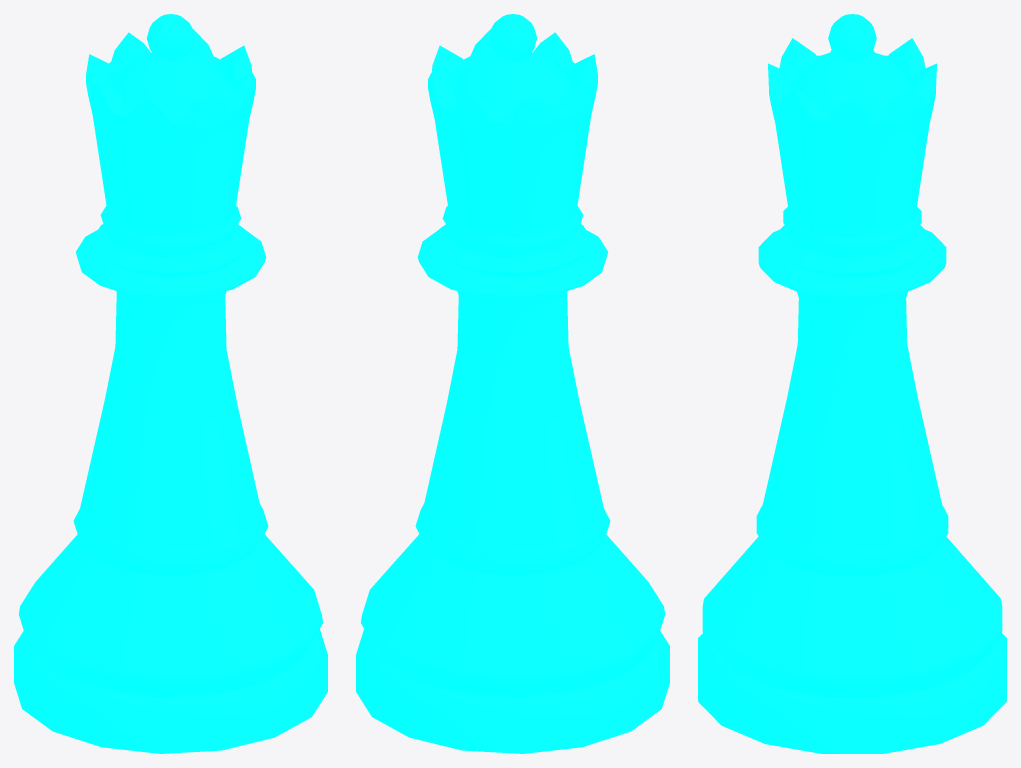
Rendered from item-4-12.glb.
3 renders of one model, left to right at view 1: azimuth 30°, elevation 25°; view 2: azimuth 150°, elevation 25°; view 3: azimuth 270°, elevation 25°, orthographic.
Parts seen in each view (by area): view 1: BlackQueen; view 2: BlackQueen; view 3: BlackQueen.
Boxes of the visible parts, x1,y1,x2,y2 form: BlackQueen: (14, 14, 327, 753); BlackQueen: (356, 14, 669, 753); BlackQueen: (698, 14, 1006, 753).
Size of the model in its own units: 0.0968 by 0.2326 by 0.0968.
